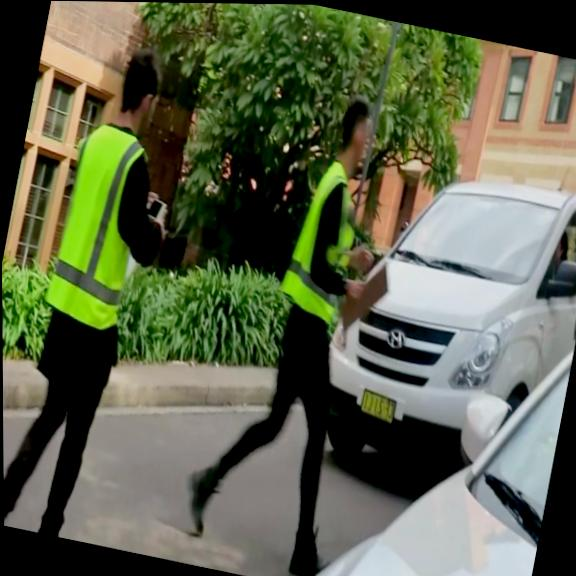safety_vest: (41, 117, 155, 331), (276, 151, 369, 327)
